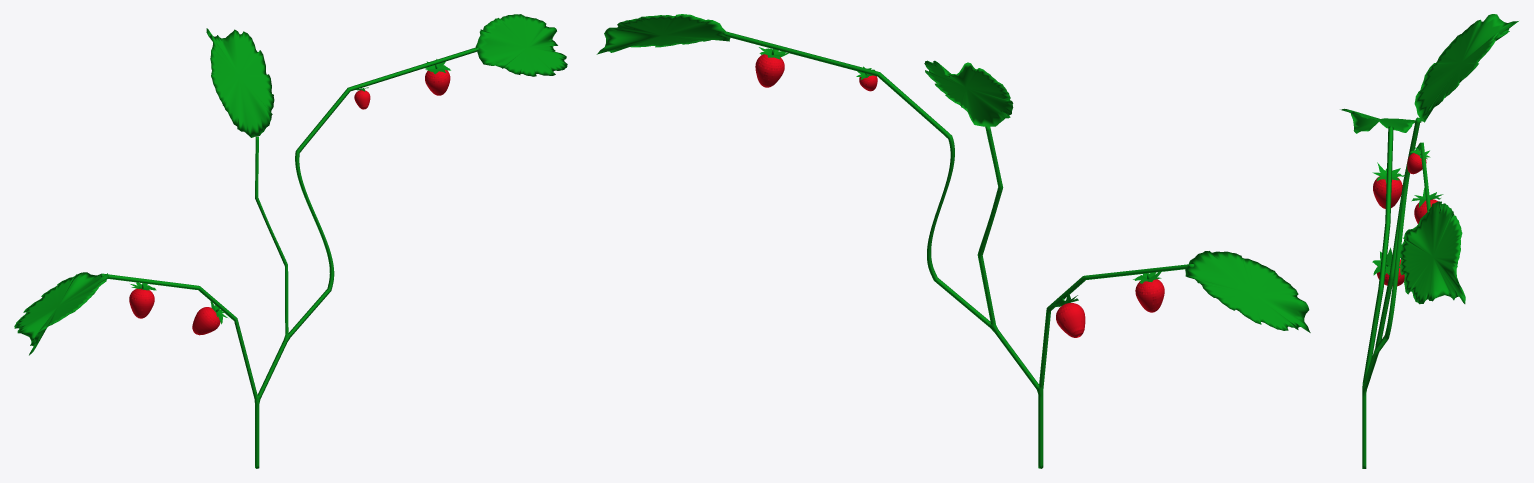
The model's file is Fraise_Croissance_3.fbx.
3 views of the same model, side by side, from view 1: azimuth 30°, elevation 25°; view 2: azimuth 150°, elevation 25°; view 3: azimuth 270°, elevation 25° (orthographic). The views are drawn at different scales.
Visible parts, largest first — view 1: Plane.004, Plane.001, Plane, Plane.002, Fraise, Fraise.001, Fraise.003; view 2: Plane.001, Plane.002, Plane, Plane.004, Fraise.001, Fraise, Fraise.003; view 3: Plane, Plane.001, Plane.004, Plane.002, Fraise, Fraise.001, Fraise.003, Fraise.002.
Boxes of the visible parts, x1=… form: Plane.004: x1=206, y1=28, x2=274, y2=137; Plane.001: x1=100, y1=47, x2=478, y2=468; Plane: x1=475, y1=14, x2=567, y2=76; Plane.002: x1=14, y1=272, x2=108, y2=355; Fraise: x1=129, y1=282, x2=156, y2=318; Fraise.001: x1=192, y1=301, x2=227, y2=335; Fraise.003: x1=425, y1=59, x2=450, y2=95; Plane.001: x1=722, y1=31, x2=1194, y2=468; Plane.002: x1=1185, y1=251, x2=1310, y2=332; Plane: x1=596, y1=14, x2=730, y2=54; Plane.004: x1=924, y1=60, x2=1013, y2=126; Fraise.001: x1=1050, y1=291, x2=1085, y2=337; Fraise: x1=1133, y1=272, x2=1164, y2=312; Fraise.003: x1=755, y1=47, x2=788, y2=87; Plane: x1=1399, y1=201, x2=1465, y2=304; Plane.001: x1=1362, y1=117, x2=1430, y2=468; Plane.004: x1=1414, y1=14, x2=1518, y2=122; Plane.002: x1=1340, y1=108, x2=1421, y2=133; Fraise: x1=1372, y1=162, x2=1404, y2=208; Fraise.001: x1=1372, y1=247, x2=1404, y2=286; Fraise.003: x1=1411, y1=188, x2=1443, y2=223; Fraise.002: x1=1407, y1=147, x2=1430, y2=174.
Size of the model in its own units: 408 by 265 by 94.05.
